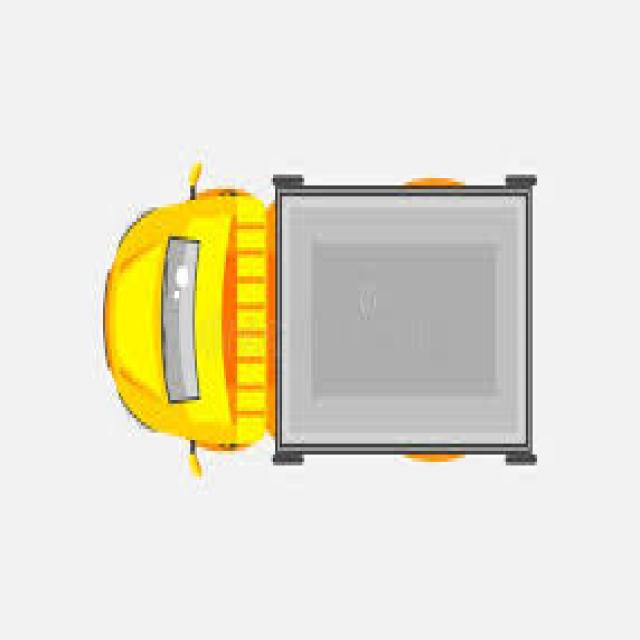truck: (99, 172, 534, 466)
